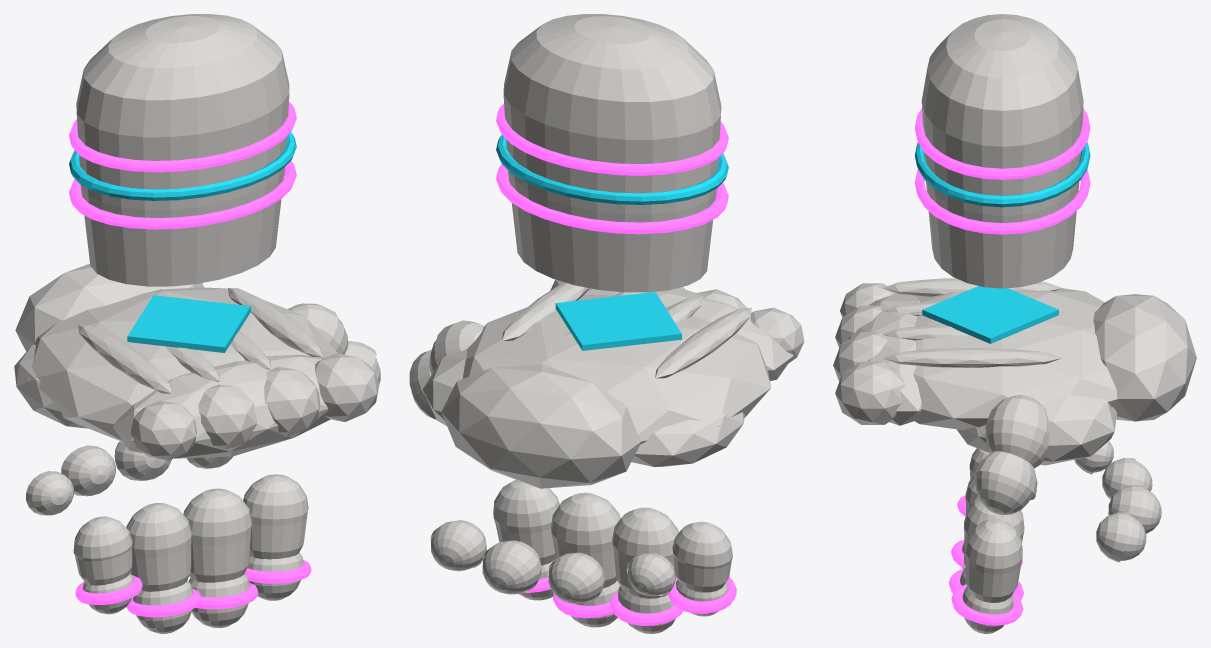
Rendered from ArteModerno_Mano.fbx.
3 views of the same model, side by side, from view 1: azimuth 30°, elevation 25°; view 2: azimuth 150°, elevation 25°; view 3: azimuth 270°, elevation 25° (orthographic). The views are drawn at different scales.
Visible parts, largest first — view 1: Antebrazo, Palma, Dedo_Medio_1, Dedo_Anular_1, Dedo_Indice_1, Dedo_Menique_1, Dedo_Anular_2, Dedo_Medio_2, Dedo_Indice_2, Dedo_Anular_3, Dedo_Menique_3, Dedo_Menique_2 (+3 smaller); view 2: Palma, Antebrazo, Dedo_Medio_1, Dedo_Indice_1, Dedo_Menique_1, Dedo_Anular_1, Dedo_Medio_3, Dedo_Anular_3, Dedo_Indice_3, Dedo_Anular_2, Dedo_Menique_3, Dedo_Menique_2 (+4 smaller); view 3: Palma, Antebrazo, Dedo_Indice_1, Pulgar_1, Pulgar_2, Dedo_Indice_2, Dedo_Indice_3, Dedo_Medio_3, Dedo_Anular_3, Dedo_Medio_1, Dedo_Menique_3.
Boxes of the visible parts, x1,y1,x2,y2 form: Antebrazo: [69, 14, 296, 286]; Palma: [14, 263, 379, 460]; Dedo_Medio_1: [183, 488, 252, 582]; Dedo_Anular_1: [126, 503, 191, 591]; Dedo_Indice_1: [243, 474, 308, 559]; Dedo_Menique_1: [73, 516, 132, 585]; Dedo_Anular_2: [126, 580, 201, 633]; Dedo_Medio_2: [188, 573, 258, 627]; Dedo_Indice_2: [245, 552, 311, 600]; Dedo_Anular_3: [61, 445, 115, 496]; Dedo_Menique_3: [26, 471, 73, 515]; Dedo_Menique_2: [75, 573, 142, 614]; Palma: [422, 279, 804, 488]; Antebrazo: [496, 14, 728, 292]; Dedo_Medio_1: [551, 492, 620, 588]; Dedo_Indice_1: [493, 480, 559, 565]; Dedo_Menique_1: [672, 521, 732, 592]; Dedo_Anular_1: [612, 507, 678, 598]; Dedo_Medio_3: [482, 540, 541, 594]; Dedo_Anular_3: [548, 552, 604, 603]; Dedo_Indice_3: [430, 520, 486, 571]; Dedo_Anular_2: [610, 586, 683, 633]; Dedo_Menique_3: [626, 553, 675, 596]; Dedo_Menique_2: [667, 577, 736, 616]; Palma: [833, 278, 1196, 465]; Antebrazo: [915, 14, 1090, 288]; Dedo_Indice_1: [965, 518, 1022, 602]; Pulgar_1: [984, 395, 1050, 468]; Pulgar_2: [973, 451, 1037, 515]; Dedo_Indice_2: [951, 584, 1023, 633]; Dedo_Indice_3: [1096, 512, 1146, 562]; Dedo_Medio_3: [1108, 485, 1161, 533]; Dedo_Anular_3: [1102, 458, 1152, 499]; Dedo_Medio_1: [964, 497, 1024, 567]; Dedo_Menique_3: [1074, 441, 1113, 474].
Size of the model in its own units: 0.6 by 1.05 by 0.6031.
